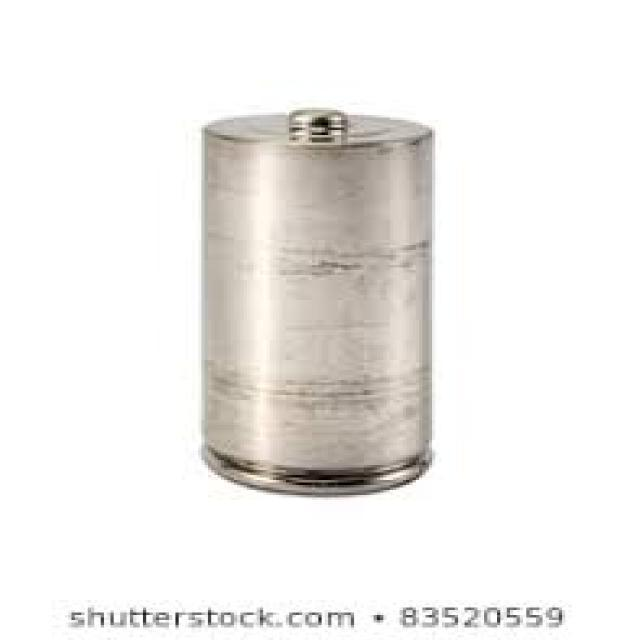Battery: (185, 98, 455, 497)
